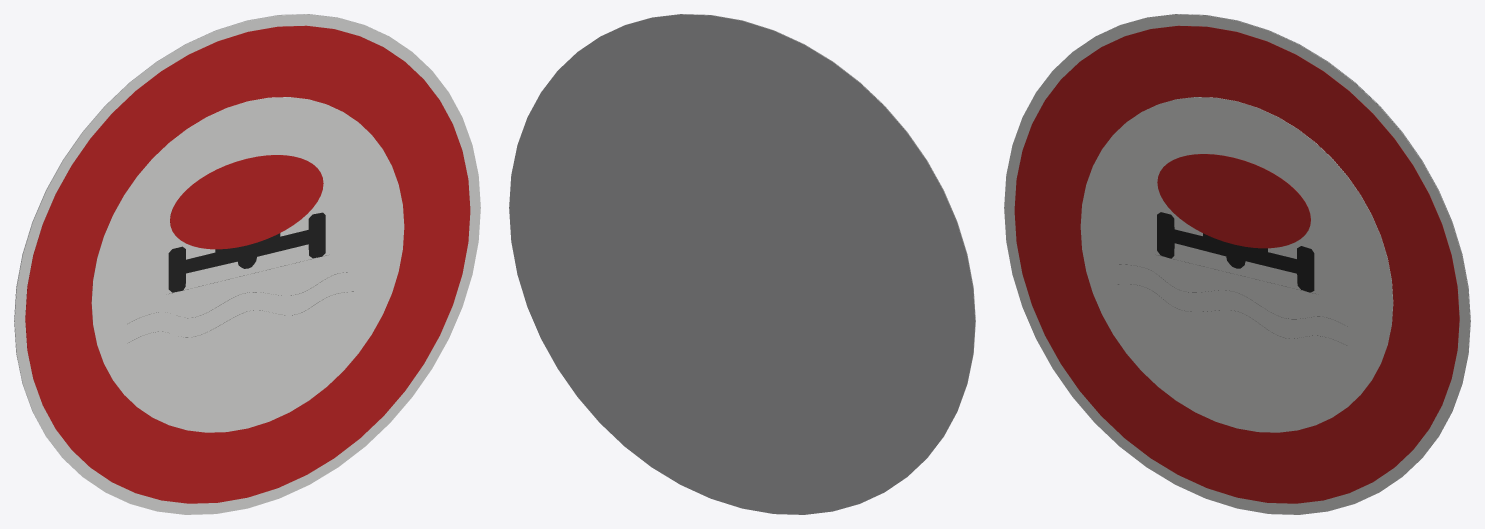
The picture shows the model from 3 angles, left to right: view 1: azimuth 30°, elevation 25°; view 2: azimuth 150°, elevation 25°; view 3: azimuth 330°, elevation 25°; orthographic projection.
Parts seen in each view (by area): view 1: B18b_p01, B18b_p02, B18b_p00, B18b_p08, B18b_p04, B18b_dos; view 2: B18b_dos, B18b_p00; view 3: B18b_p01, B18b_p02, B18b_p00, B18b_p08, B18b_p04, B18b_dos.
Part boxes in pixels (x1,y1,x2,y2): B18b_p01: [25, 25, 470, 503]; B18b_p02: [91, 97, 404, 432]; B18b_p00: [14, 14, 480, 514]; B18b_p08: [170, 155, 323, 249]; B18b_p04: [168, 212, 325, 292]; B18b_dos: [14, 14, 385, 473]; B18b_dos: [509, 14, 975, 514]; B18b_p00: [604, 14, 975, 473]; B18b_p01: [1014, 25, 1459, 503]; B18b_p02: [1080, 97, 1393, 432]; B18b_p00: [1004, 14, 1470, 514]; B18b_p08: [1157, 154, 1310, 248]; B18b_p04: [1157, 212, 1314, 292]; B18b_dos: [1099, 14, 1470, 473].
Size of the model in its own units: 0.85 by 0.8498 by 0.0051.
